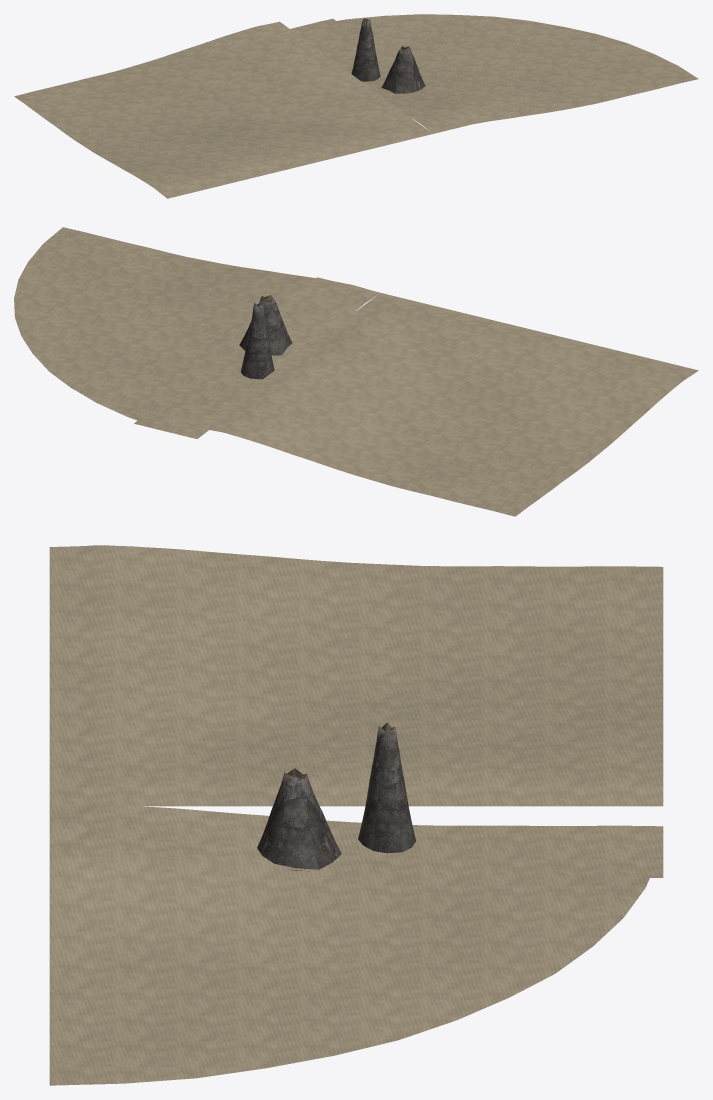
The model's file is bk_sea_autumn.glb.
3 renders of one model, top to bottom at view 1: azimuth 30°, elevation 25°; view 2: azimuth 150°, elevation 25°; view 3: azimuth 270°, elevation 25°, orthographic. The views are drawn at different scales.
Visible parts, largest first — view 1: corner_inner, corner_outer, straight12_a, straight12_c_stack110, straight12_b_stack109, straight12_c, straight12_b, straight6, straight3; view 2: corner_inner, corner_outer, straight12_c, straight12_a, straight12_b_stack109, straight12_b, straight12_c_stack110, straight6, straight3; view 3: corner_inner, corner_outer, straight12_c, straight12_a, straight12_c_stack110, straight12_b_stack109, straight12_b, straight3, straight6.
Boxes of the visible parts, <box> form: corner_inner: <box>14,21,432,198</box>; corner_outer: <box>298,14,698,133</box>; straight12_a: <box>298,19,485,123</box>; straight12_c_stack110: <box>381,46,425,93</box>; straight12_b_stack109: <box>351,18,380,81</box>; straight12_c: <box>290,18,481,133</box>; straight12_b: <box>310,19,484,129</box>; straight6: <box>312,29,449,122</box>; straight3: <box>297,32,434,124</box>; corner_inner: <box>197,293,698,516</box>; corner_outer: <box>14,227,380,430</box>; straight12_c: <box>134,280,380,436</box>; straight12_a: <box>134,277,359,438</box>; straight12_b_stack109: <box>240,301,274,379</box>; straight12_b: <box>138,278,374,433</box>; straight12_c_stack110: <box>239,295,292,355</box>; straight6: <box>173,293,363,434</box>; straight3: <box>187,298,366,430</box>; corner_inner: <box>49,545,663,806</box>; corner_outer: <box>49,804,651,1085</box>; straight12_c: <box>49,805,663,877</box>; straight12_a: <box>49,805,663,877</box>; straight12_c_stack110: <box>257,768,341,871</box>; straight12_b_stack109: <box>358,722,415,853</box>; straight12_b: <box>49,805,663,877</box>; straight3: <box>70,805,642,838</box>; straight6: <box>89,804,638,851</box>.
Bounding box in the file's own units: 120 × 12.82 × 60.
Materials: 3 (3 with a texture image).
